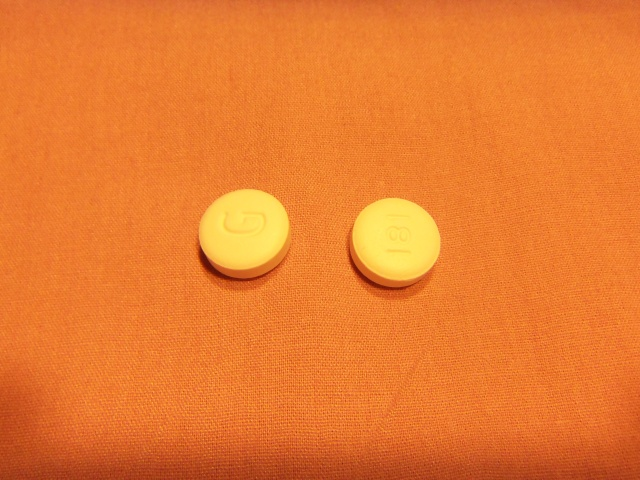1: (379, 205, 417, 223), (382, 247, 419, 260)
8: (380, 223, 421, 245)
G: (213, 204, 272, 238)
